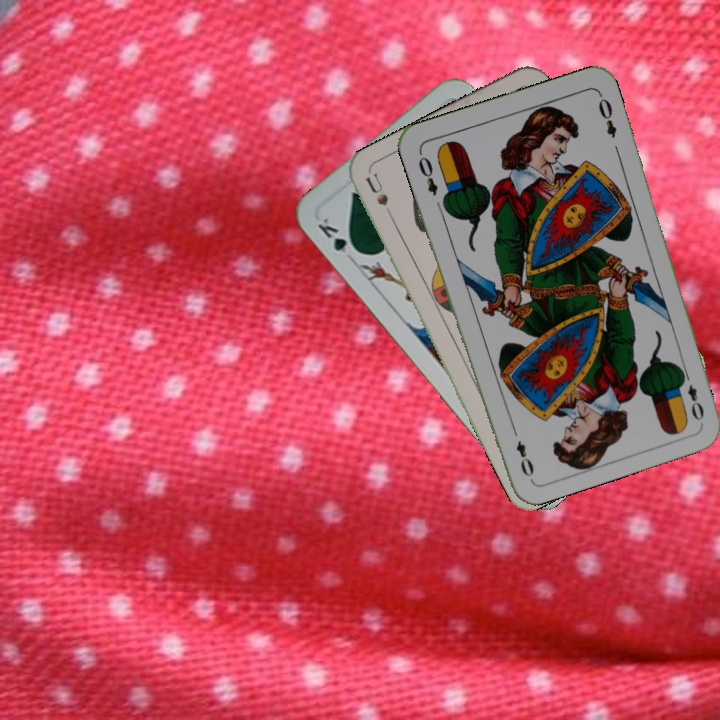EO: (677, 366, 707, 424), (414, 148, 441, 198)
GK: (313, 213, 363, 257)
SU: (361, 170, 399, 227)
